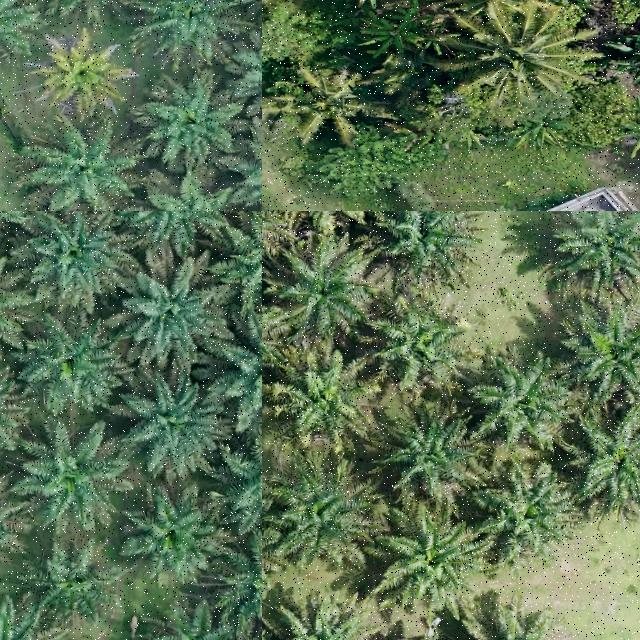Ganoderma: (43, 40, 121, 106)
